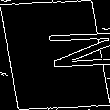N_W: (1, 33, 109, 77)
